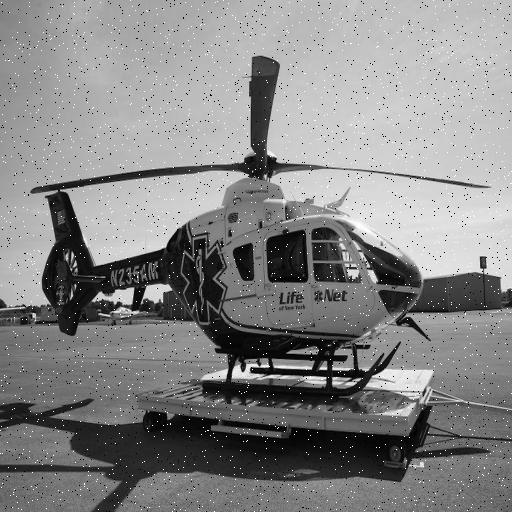helicopter: (30, 53, 494, 396)
